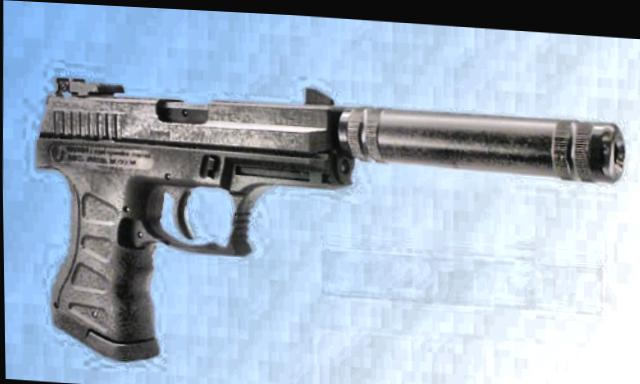pistol: (26, 66, 626, 384)
